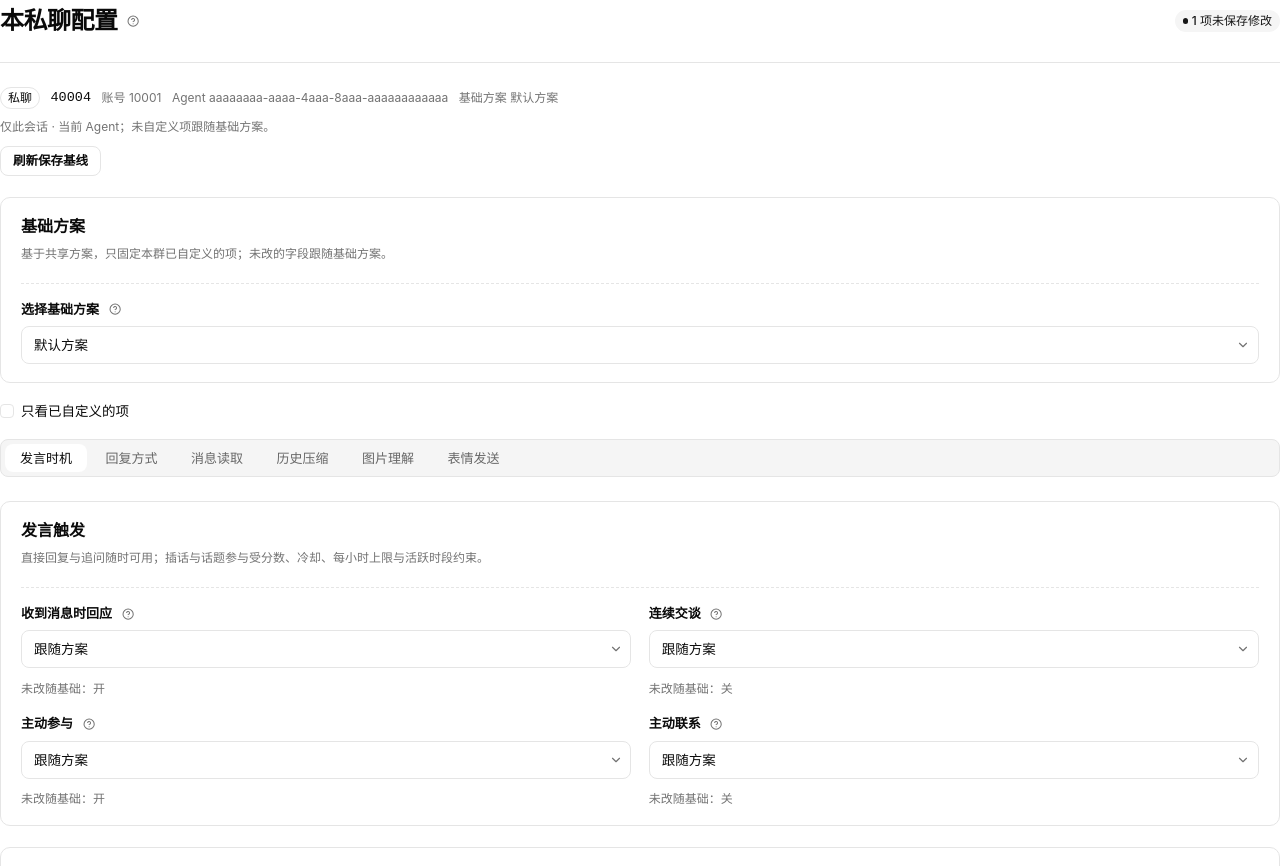
Scenario: 私聊实际方案预览取消返回同一个按钮，保留未存方案与稀疏差异
Step 1. Select "私聊目标方案" in the dropdown labelled "选择基础方案" → x=640, y=345, box [21, 326, 1259, 364]
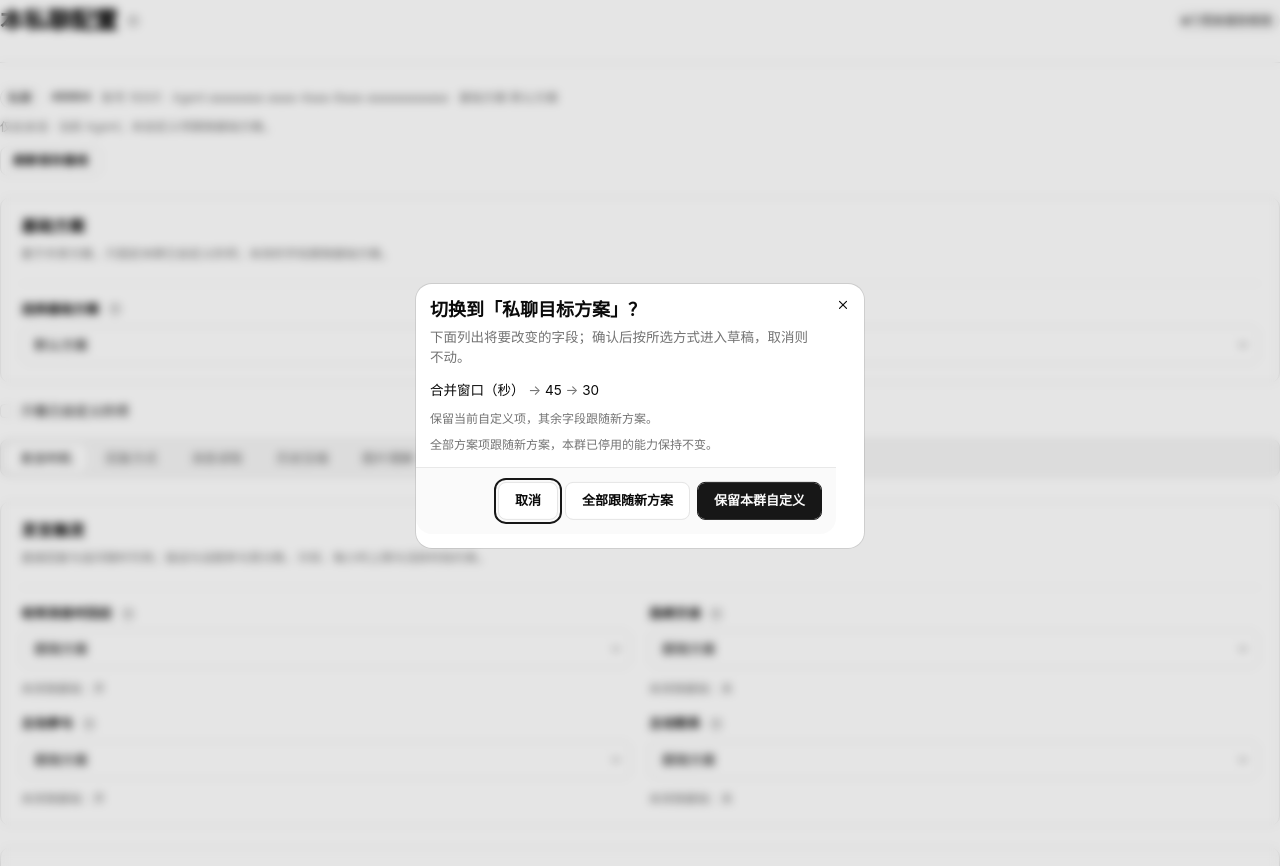
Step 2. Click the button "保留本群自定义" → x=760, y=501, box [697, 482, 822, 520]
(page scrolled)
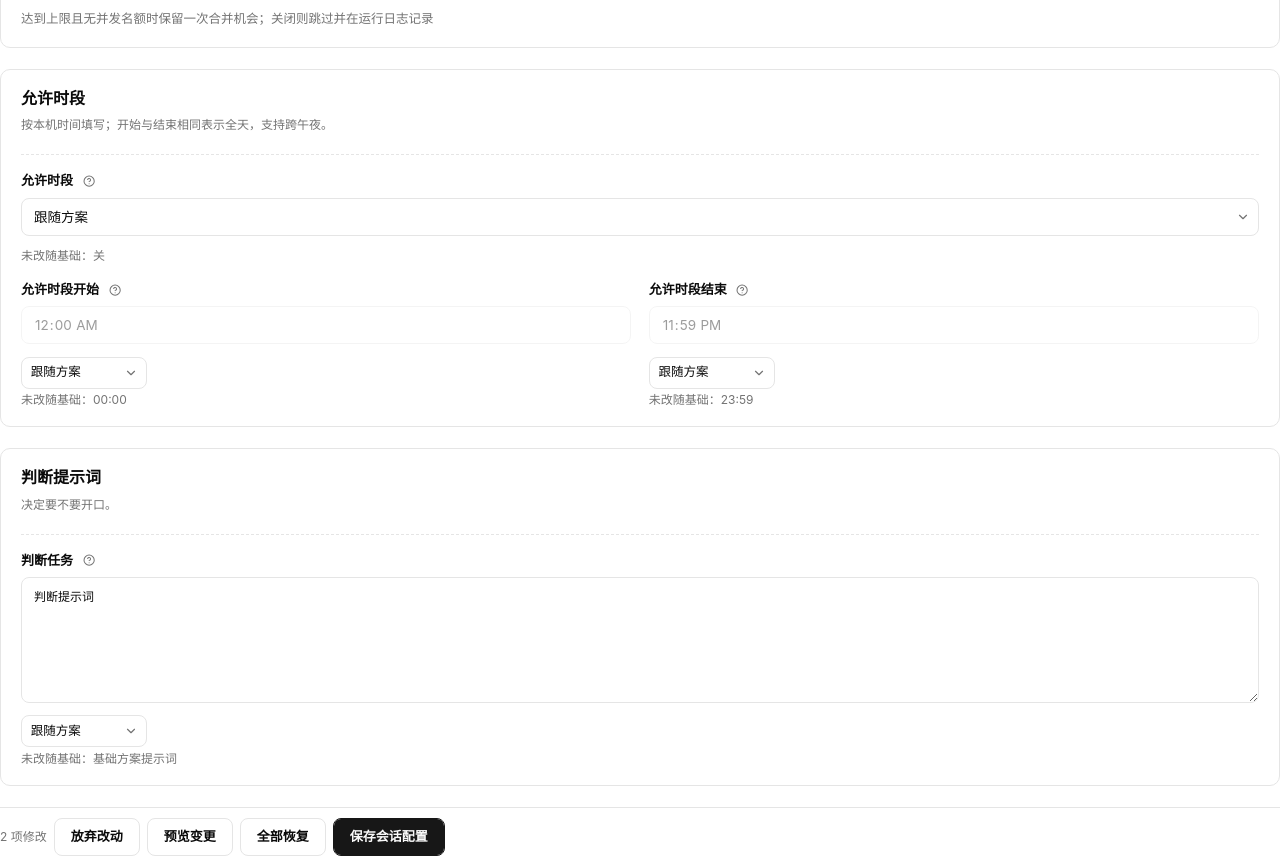
Check: the dialog is gone
Step 3. Click the button "预览变更" → x=190, y=837, box [147, 818, 233, 856]
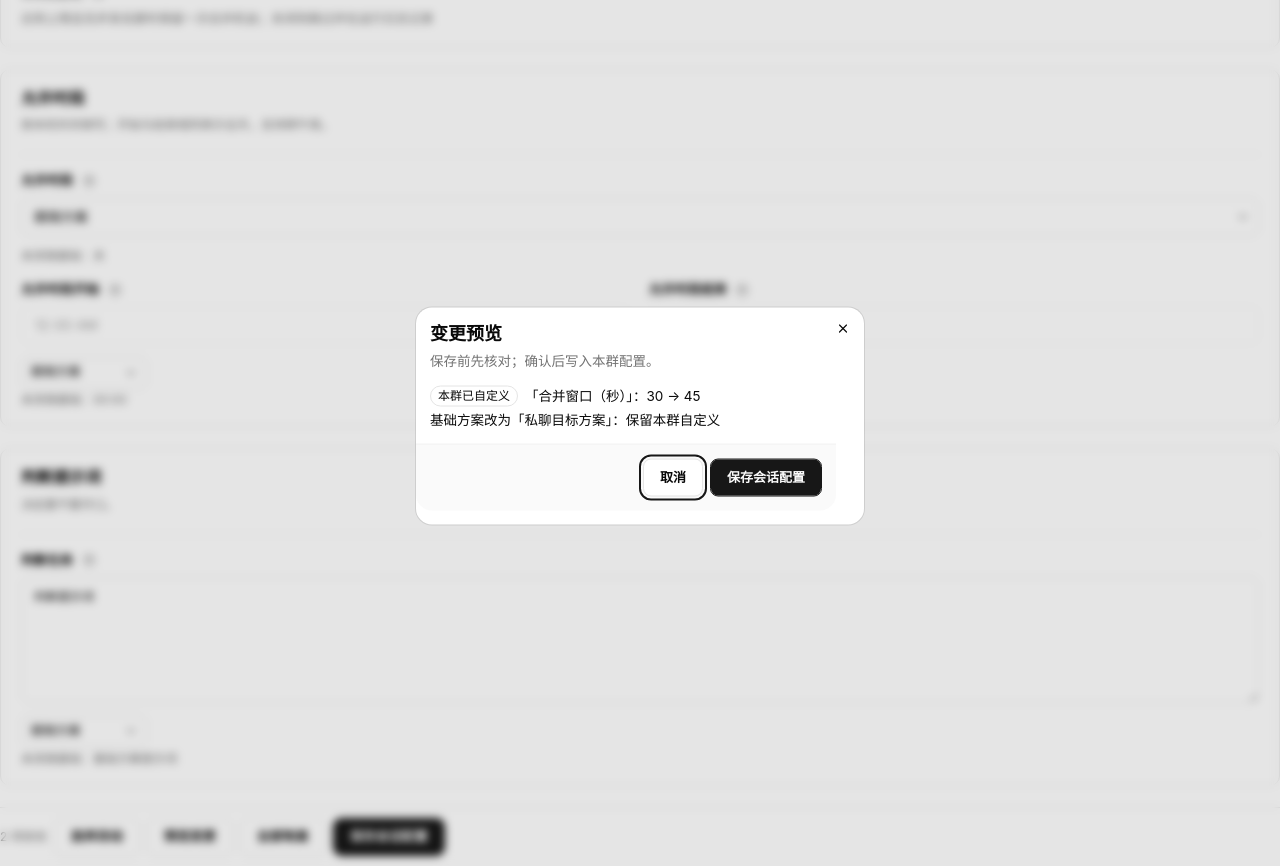
Step 4. Click the button "取消" → x=673, y=478, box [643, 458, 703, 496]
(page scrolled)
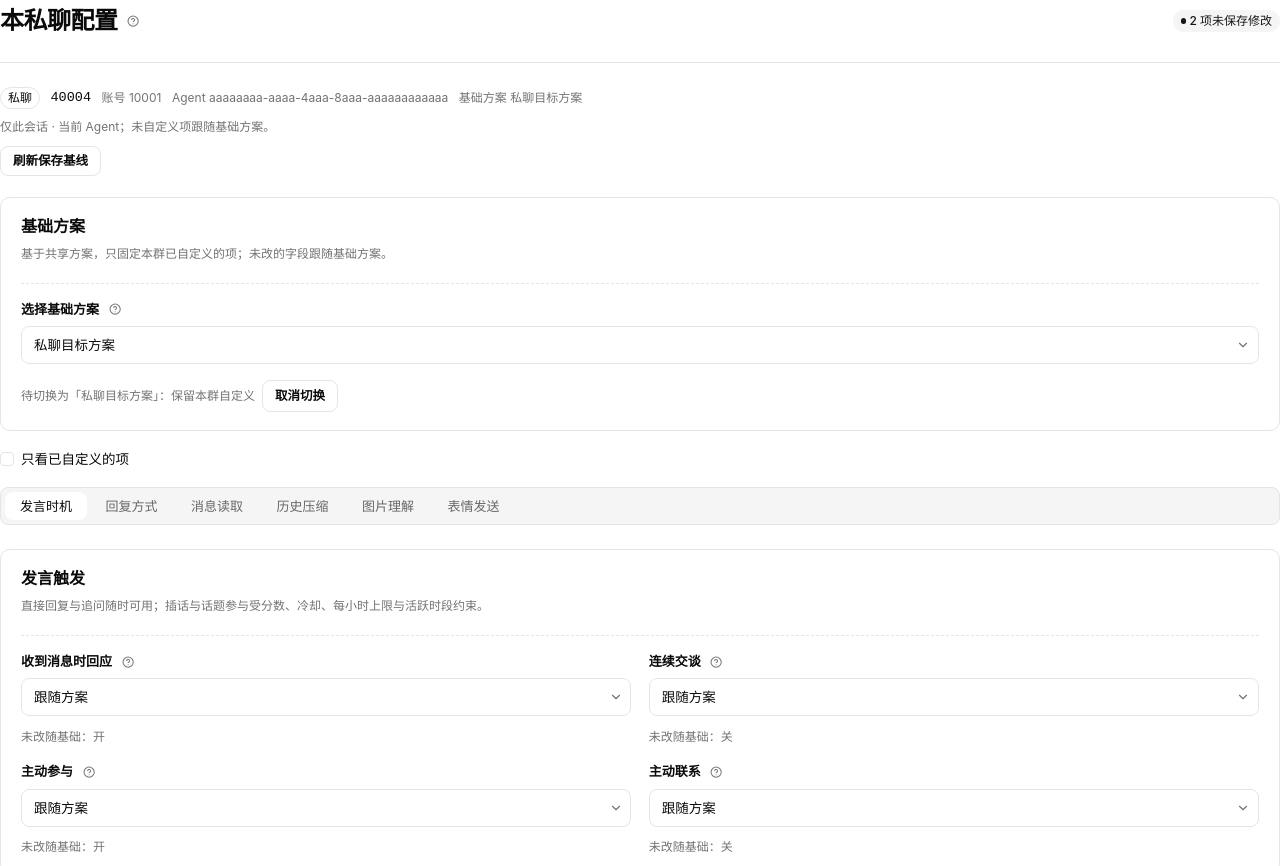
Check: the dialog is gone
